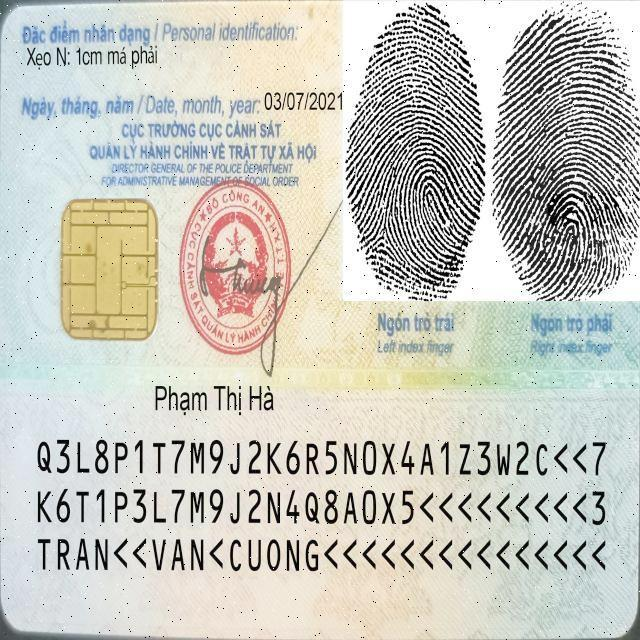features: (20, 42, 166, 72)
finger_print: (491, 0, 640, 356), (342, 0, 487, 355)
issue_date: (259, 86, 345, 117)
